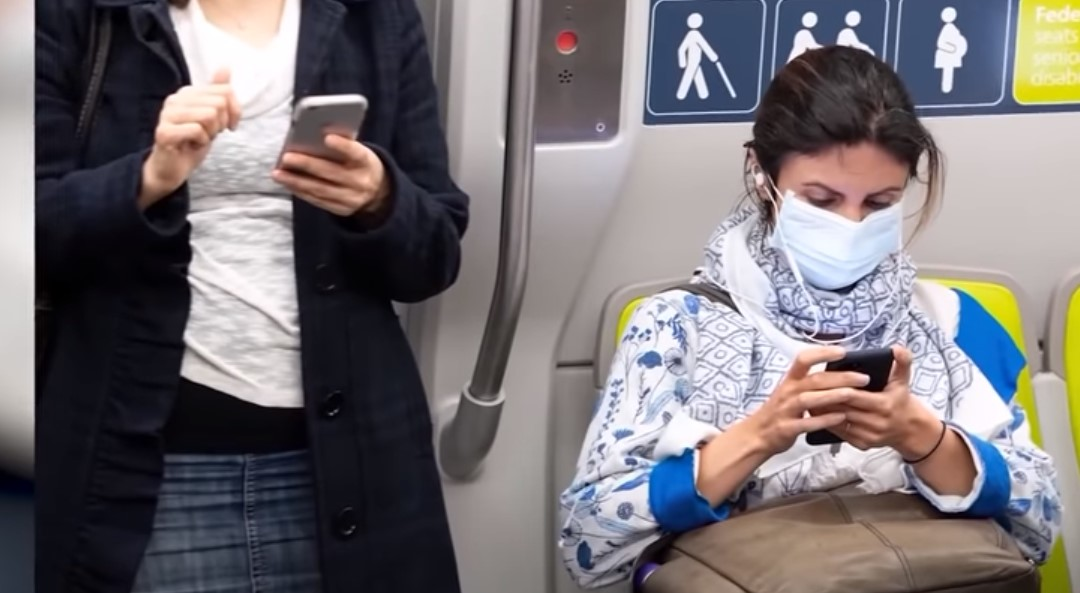face_with_mask: (760, 124, 932, 305)
